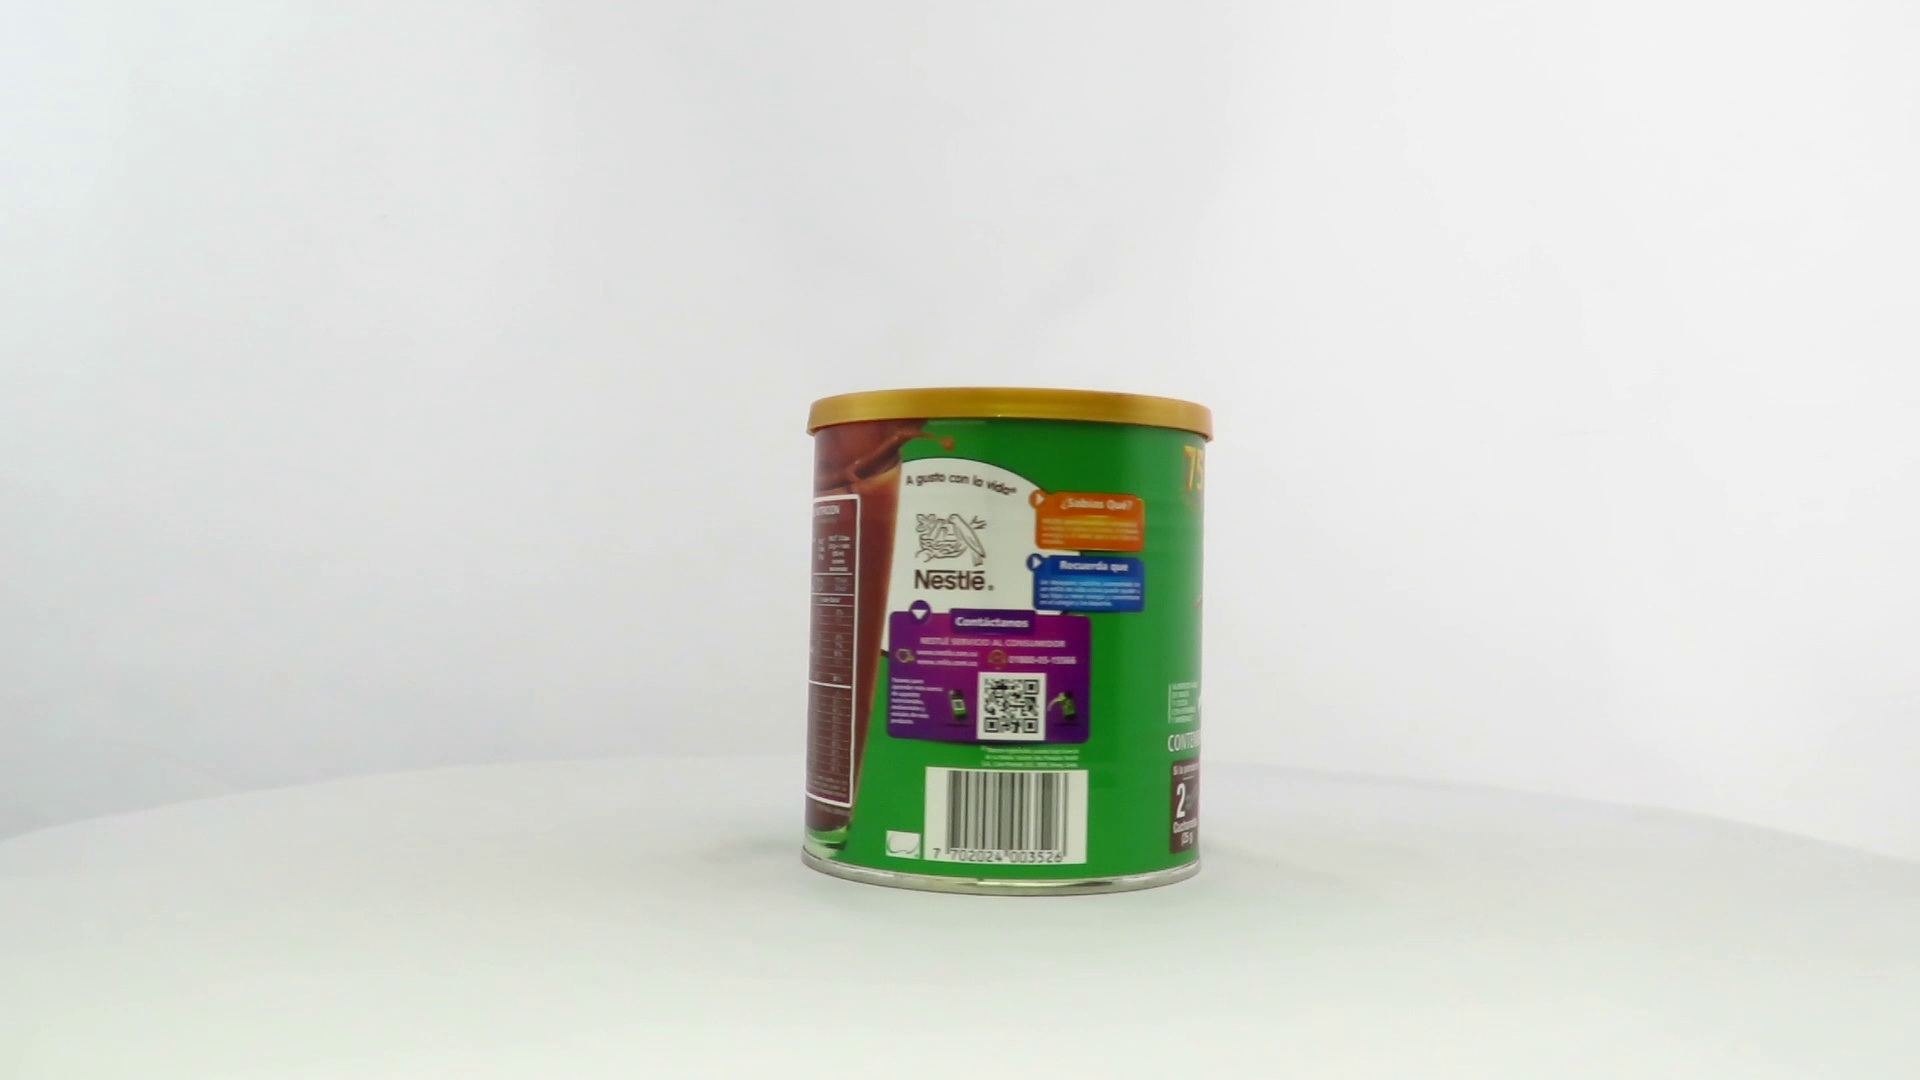COL0170203LAT40000: (795, 382, 1218, 903)
